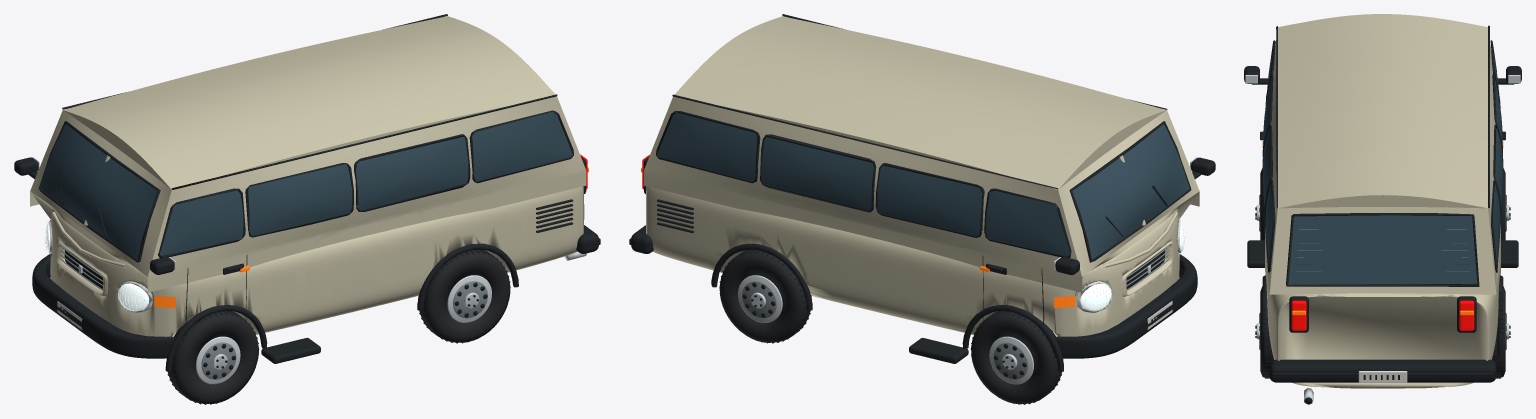
The model's file is bukhanka.glb.
3 views of the same model, side by side, from view 1: azimuth 30°, elevation 25°; view 2: azimuth 150°, elevation 25°; view 3: azimuth 270°, elevation 25° (orthographic). The views are drawn at different scales.
Parts seen in each view (by area): view 1: Body_Paint_bukhanka, Body_Curved smoked glass.012, Body_Black trim.012, Wheel_FR_Tyre.012, Wheel_RR_Tyre.012, StockBumpers_Black trim.012, StockFenders_Black trim.012, Wheel_RR_Machined aluminium.012, Wheel_FR_Machined aluminium.012, Body_Prismatic headlight glass.012, Wheel_RR_Brake steel.012, Wheel_FR_Brake steel.012 (+1 smaller); view 2: Body_Paint_bukhanka, Body_Curved smoked glass.012, Body_Black trim.012, Wheel_FL_Tyre.012, Wheel_RL_Tyre.012, StockBumpers_Black trim.012, StockFenders_Black trim.012, Wheel_FL_Machined aluminium.012, Wheel_RL_Machined aluminium.012, Body_Prismatic headlight glass.012, Wheel_RL_Brake steel.012, Wheel_FL_Brake steel.012; view 3: Body_Paint_bukhanka, Body_Curved smoked glass.012, Body_Black trim.012, StockBumpers_Black trim.012, StockFenders_Black trim.012, Body_Red lens.012, Body_Numberplate.012, Wheel_RL_Tyre.012, Wheel_RR_Tyre.012, Body_Machined aluminium.012.
Part boxes in pixels (<box>): Body_Paint_bukhanka: <box>30,16,586,336</box>; Body_Curved smoked glass.012: <box>40,111,572,259</box>; Body_Black trim.012: <box>14,14,586,363</box>; Wheel_FR_Tyre.012: <box>167,311,258,403</box>; Wheel_RR_Tyre.012: <box>418,249,510,342</box>; StockBumpers_Black trim.012: <box>32,225,600,358</box>; StockFenders_Black trim.012: <box>165,243,518,371</box>; Wheel_RR_Machined aluminium.012: <box>447,275,491,322</box>; Wheel_FR_Machined aluminium.012: <box>196,336,240,384</box>; Body_Prismatic headlight glass.012: <box>45,221,149,311</box>; Wheel_RR_Brake steel.012: <box>453,281,487,318</box>; Wheel_FR_Brake steel.012: <box>201,342,236,379</box>; Body_Paint_bukhanka: <box>644,16,1199,336</box>; Body_Curved smoked glass.012: <box>657,112,1189,259</box>; Body_Black trim.012: <box>644,14,1215,363</box>; Wheel_FL_Tyre.012: <box>971,311,1063,404</box>; Wheel_RL_Tyre.012: <box>719,250,811,342</box>; StockBumpers_Black trim.012: <box>629,225,1197,358</box>; StockFenders_Black trim.012: <box>711,243,1063,371</box>; Wheel_FL_Machined aluminium.012: <box>989,336,1033,384</box>; Wheel_RL_Machined aluminium.012: <box>738,275,782,322</box>; Body_Prismatic headlight glass.012: <box>1080,221,1184,311</box>; Wheel_RL_Brake steel.012: <box>742,281,776,318</box>; Wheel_FL_Brake steel.012: <box>993,342,1028,379</box>; Body_Paint_bukhanka: <box>1265,14,1500,388</box>; Body_Curved smoked glass.012: <box>1263,50,1502,285</box>; Body_Black trim.012: <box>1244,25,1521,404</box>; StockBumpers_Black trim.012: <box>1269,359,1496,382</box>; StockFenders_Black trim.012: <box>1262,159,1503,355</box>; Body_Red lens.012: <box>1291,300,1474,330</box>; Body_Numberplate.012: <box>1358,371,1407,382</box>; Wheel_RL_Tyre.012: <box>1492,286,1505,377</box>; Wheel_RR_Tyre.012: <box>1260,286,1273,377</box>; Body_Machined aluminium.012: <box>1245,75,1520,404</box>.
Bounding box in the file's own units: 4.37 × 2.07 × 2.28.
